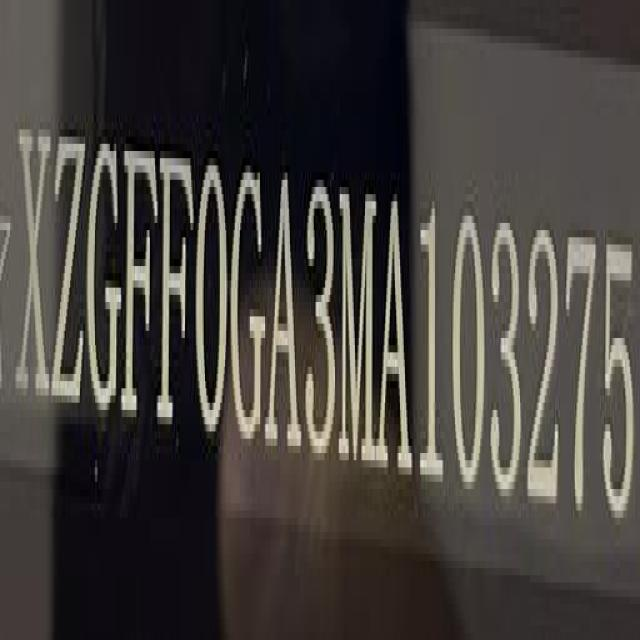0: (196, 159, 230, 449), (453, 210, 485, 497)
1: (418, 195, 442, 492)
2: (529, 225, 562, 517)
3: (491, 217, 524, 510), (307, 176, 337, 467)
5: (601, 232, 635, 519)
7: (566, 226, 596, 524)
A: (377, 190, 413, 484), (267, 170, 299, 464)
F: (160, 140, 192, 436), (124, 130, 156, 425)
G: (86, 127, 120, 415), (231, 166, 265, 452)
M: (340, 176, 378, 471)
X: (18, 115, 50, 406)
Z: (53, 120, 85, 412)
